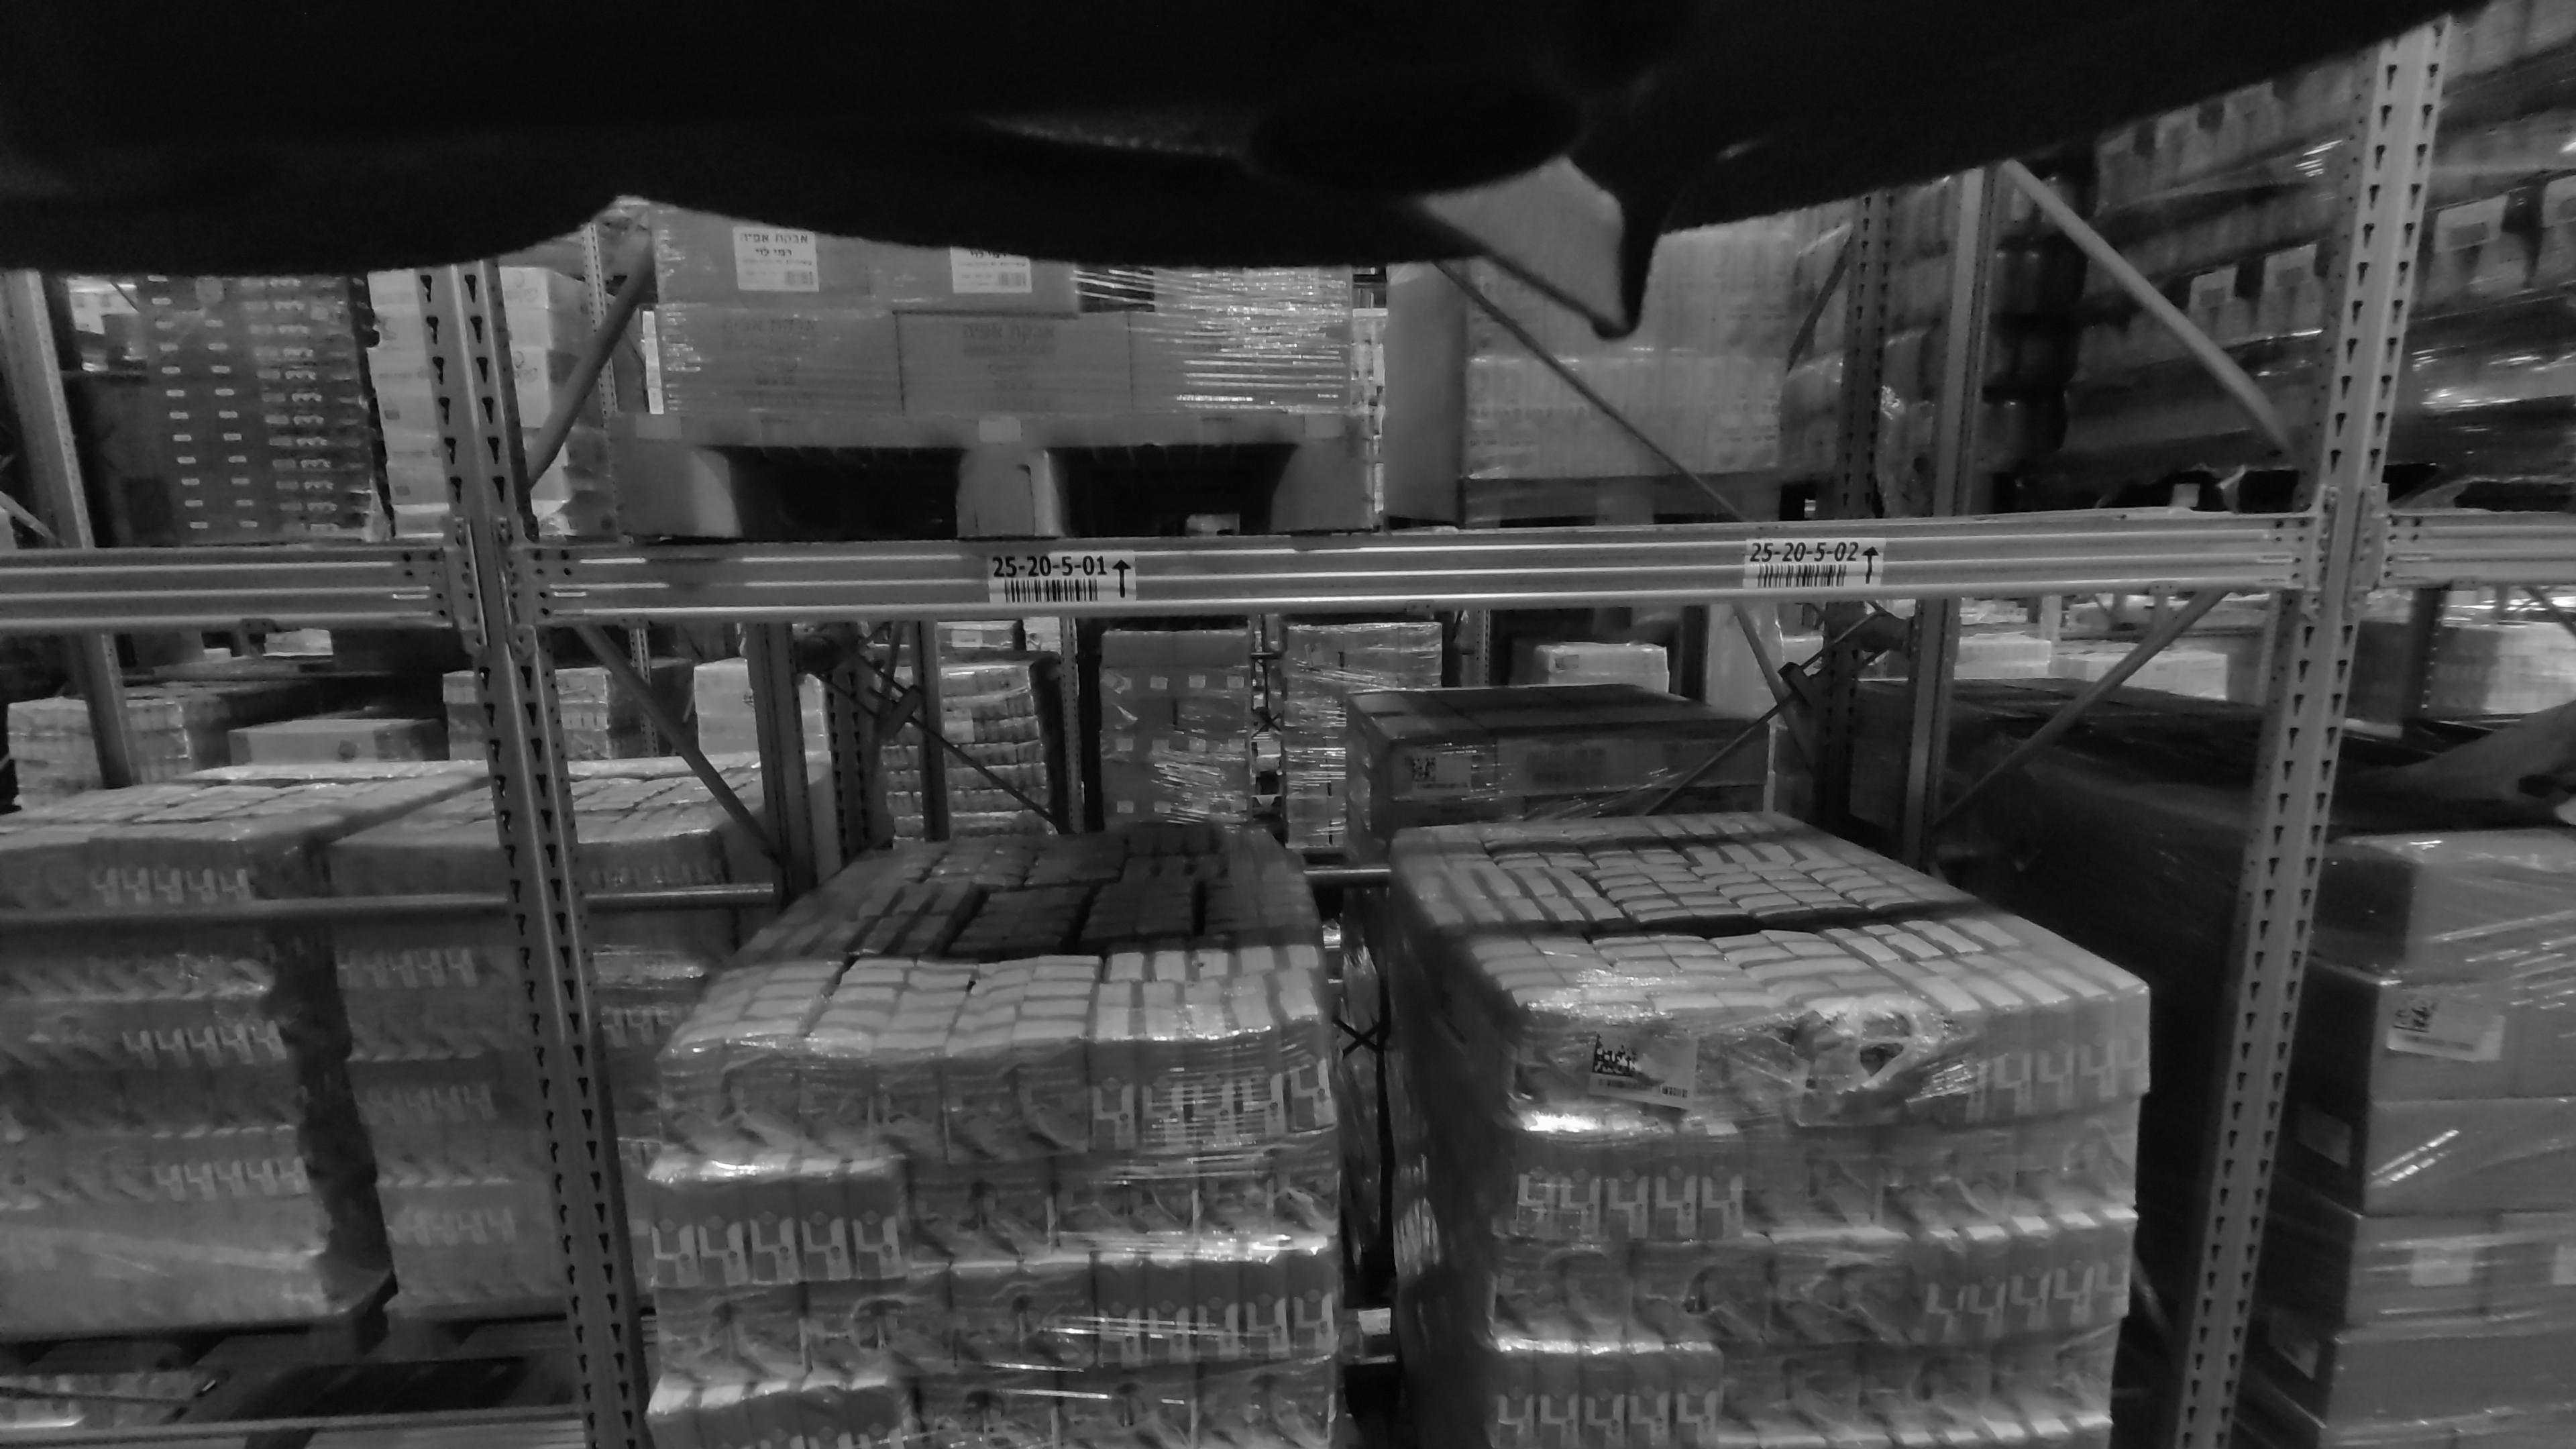empty-shelf: (14, 635, 494, 1449), (1463, 168, 2265, 506), (11, 248, 418, 550)
